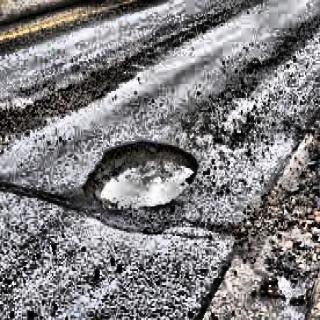pothole: (77, 132, 208, 238)
